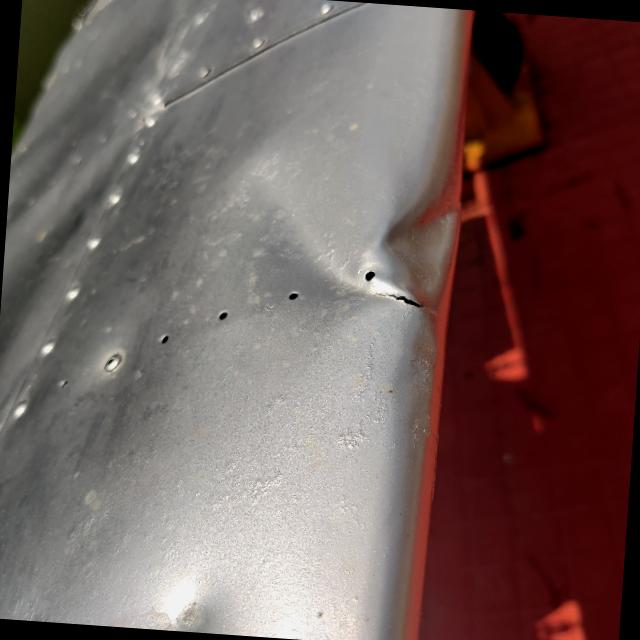dent: (225, 137, 492, 348)
